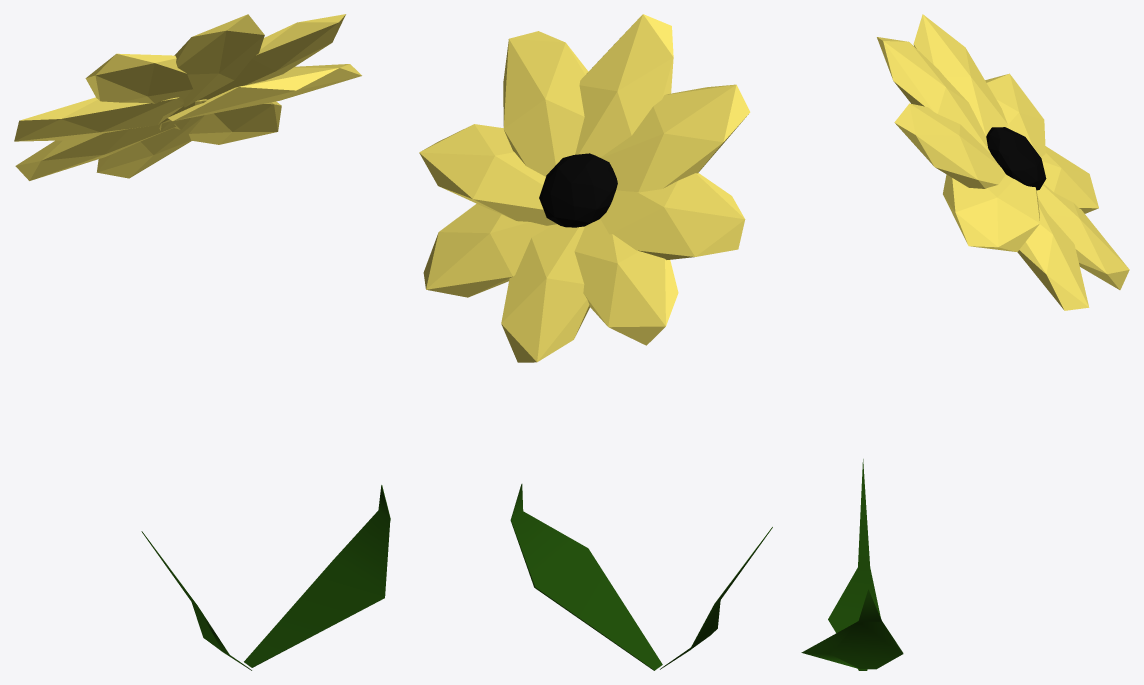
File: singleflower.FBX
3 renders of one model, left to right at view 1: azimuth 30°, elevation 25°; view 2: azimuth 150°, elevation 25°; view 3: azimuth 270°, elevation 25°, orthographic. The views are drawn at different scales.
Parts seen in each view (by area): view 1: Cylinder003, GeoSphere018, GeoSphere015, GeoSphere014, GeoSphere011, GeoSphere017, GeoSphere013, GeoSphere012, GeoSphere016, Cylinder004; view 2: GeoSphere011, GeoSphere014, GeoSphere015, GeoSphere018, GeoSphere016, Cylinder003, GeoSphere013, GeoSphere017, GeoSphere012, GeoSphere010, Cylinder004; view 3: GeoSphere017, GeoSphere011, GeoSphere018, GeoSphere014, GeoSphere012, Cylinder003, GeoSphere016, Cylinder004, GeoSphere010, GeoSphere015, GeoSphere013.
Boxes of the visible parts, x1,y1,x2,y2 form: Cylinder003: (244, 485, 390, 667); GeoSphere018: (159, 14, 264, 130); GeoSphere015: (14, 97, 183, 141); GeoSphere014: (85, 53, 192, 129); GeoSphere011: (158, 14, 345, 124); GeoSphere017: (168, 64, 361, 121); GeoSphere013: (15, 124, 175, 180); GeoSphere012: (189, 99, 281, 144); GeoSphere016: (96, 115, 204, 178); Cylinder004: (141, 531, 251, 670); GeoSphere011: (503, 31, 588, 176); GeoSphere014: (600, 84, 750, 192); GeoSphere015: (600, 173, 745, 259); GeoSphere018: (575, 14, 673, 157); GeoSphere016: (501, 224, 589, 362); Cylinder003: (510, 484, 662, 670); GeoSphere013: (574, 219, 678, 345); GeoSphere017: (419, 124, 556, 225); GeoSphere012: (423, 203, 553, 297); GeoSphere010: (539, 153, 617, 227); Cylinder004: (660, 527, 772, 669); GeoSphere017: (943, 174, 1039, 251); GeoSphere011: (894, 103, 1005, 188); GeoSphere018: (877, 37, 990, 153); GeoSphere014: (913, 14, 1007, 136); GeoSphere012: (1017, 197, 1089, 310); Cylinder003: (801, 588, 903, 669); GeoSphere016: (1036, 183, 1129, 289); Cylinder004: (828, 459, 880, 670); GeoSphere010: (986, 127, 1046, 190); GeoSphere015: (985, 73, 1045, 157); GeoSphere013: (1041, 146, 1098, 213).
Size of the model in its own units: 14.69 by 27.88 by 13.09.
